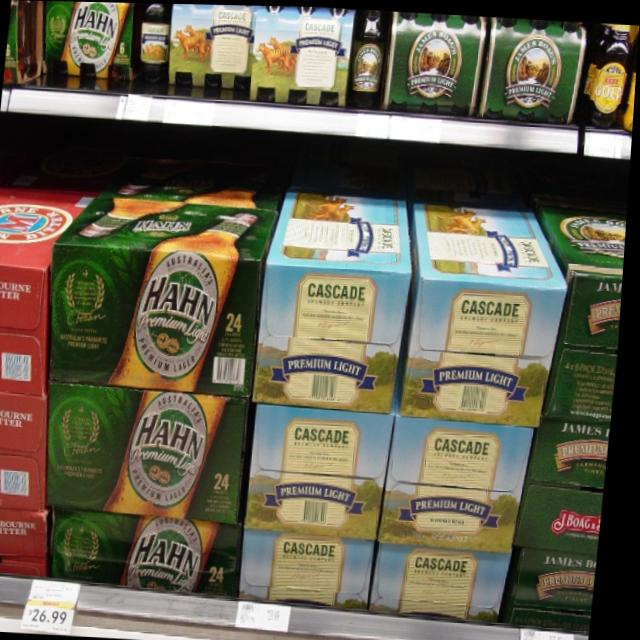q196: (42, 223, 274, 401), (43, 386, 264, 534), (53, 515, 254, 612)
